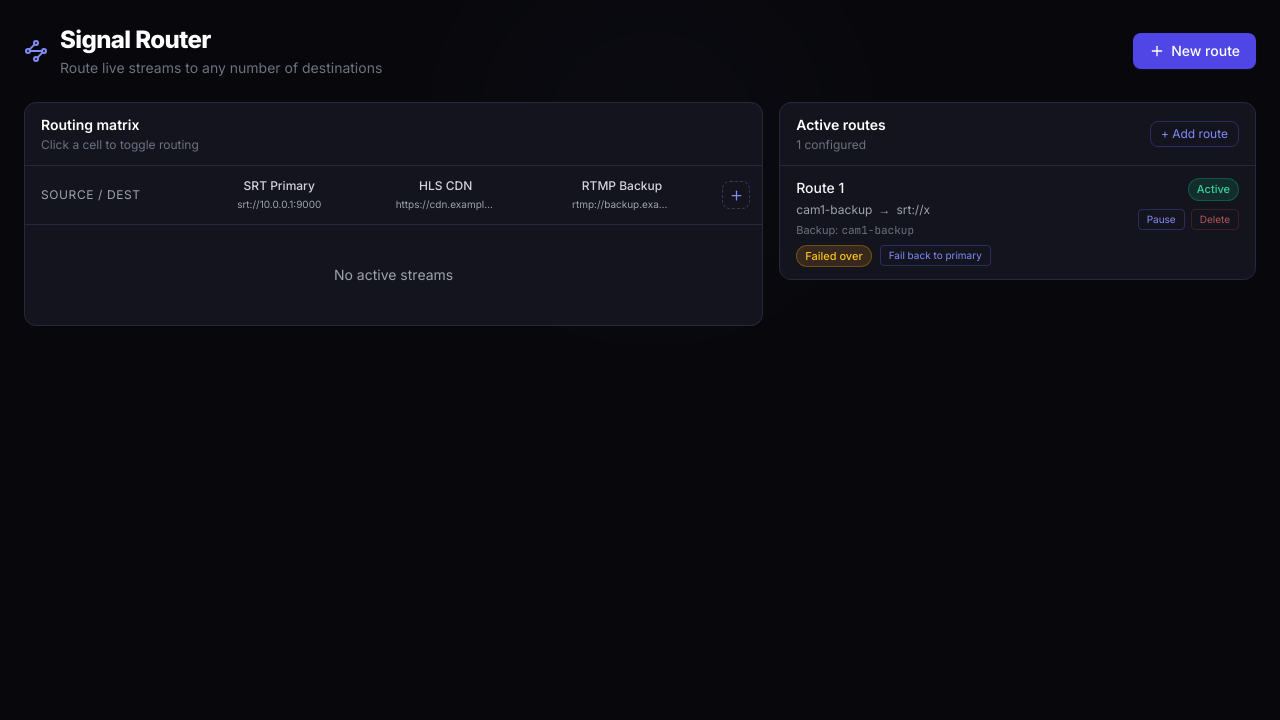
Scenario: RouterPage — active routes › lets an admin fail a route back to its primary source
Expected: the text "Failed over" is shown, x1=796 y1=244 x2=872 y2=267
Click the button "Fail back to primary" at (935, 256), box x1=880 y1=245 x2=991 y2=266
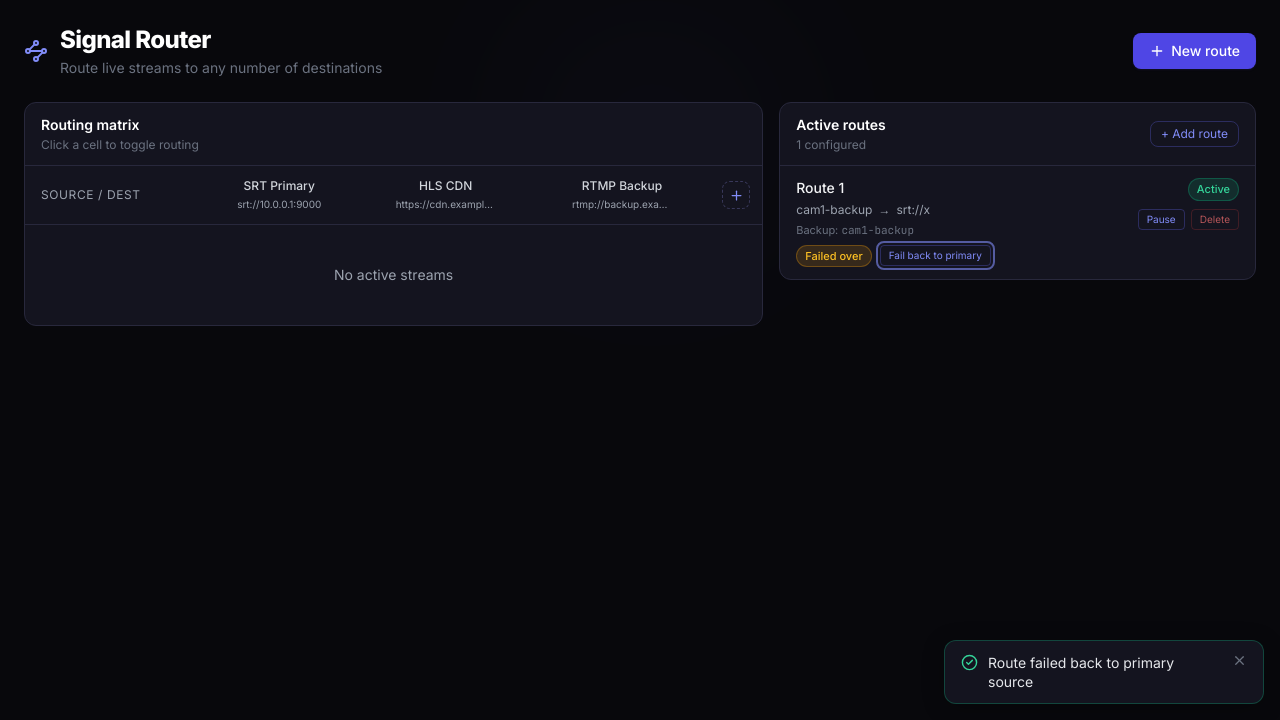
Result: the text "Route failed back to primary source" is shown at x1=988 y1=654 x2=1174 y2=690
